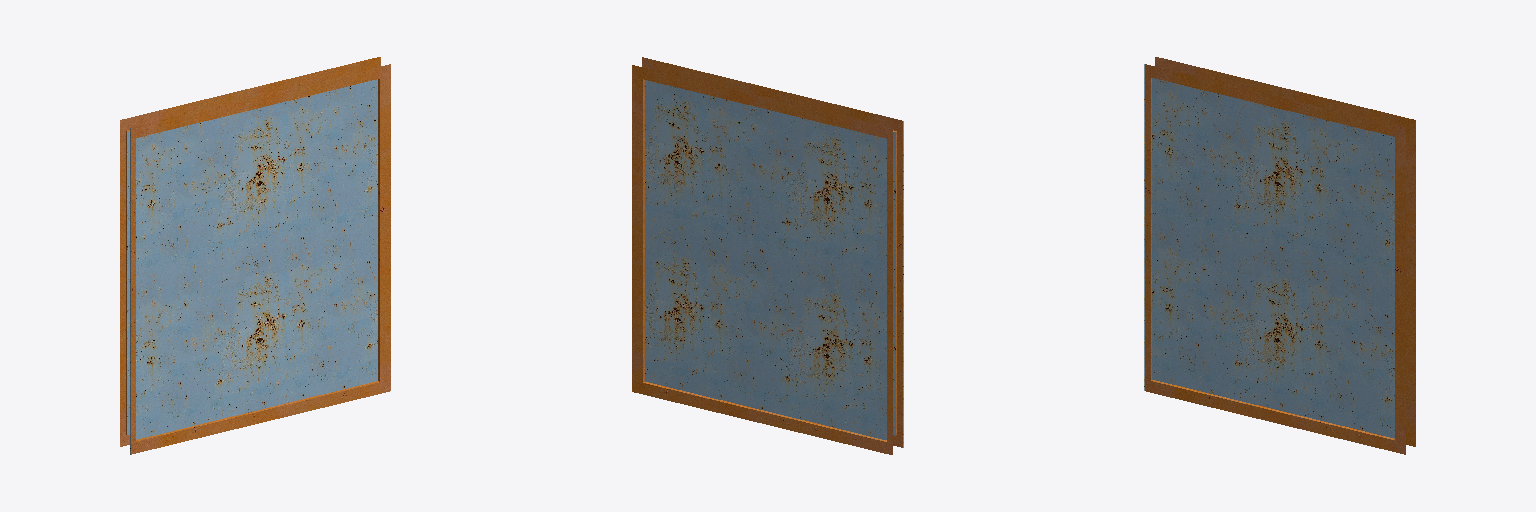
The picture shows the model from 3 angles: view 1: azimuth 30°, elevation 25°; view 2: azimuth 150°, elevation 25°; view 3: azimuth 330°, elevation 25°; orthographic projection.
Parts seen in each view (by area): view 1: garage.002, garage.001; view 2: garage.002, garage.001; view 3: garage.002, garage.001.
Boxes of the visible parts, <box> form: garage.002: <box>127,79,377,454</box>; garage.001: <box>120,57,390,454</box>; garage.002: <box>645,80,903,447</box>; garage.001: <box>632,57,902,454</box>; garage.002: <box>1144,64,1394,438</box>; garage.001: <box>1145,57,1415,454</box>.
Bounding box in the file's own units: 1.75 × 2.09 × 0.13.
2 materials, 2 textured.